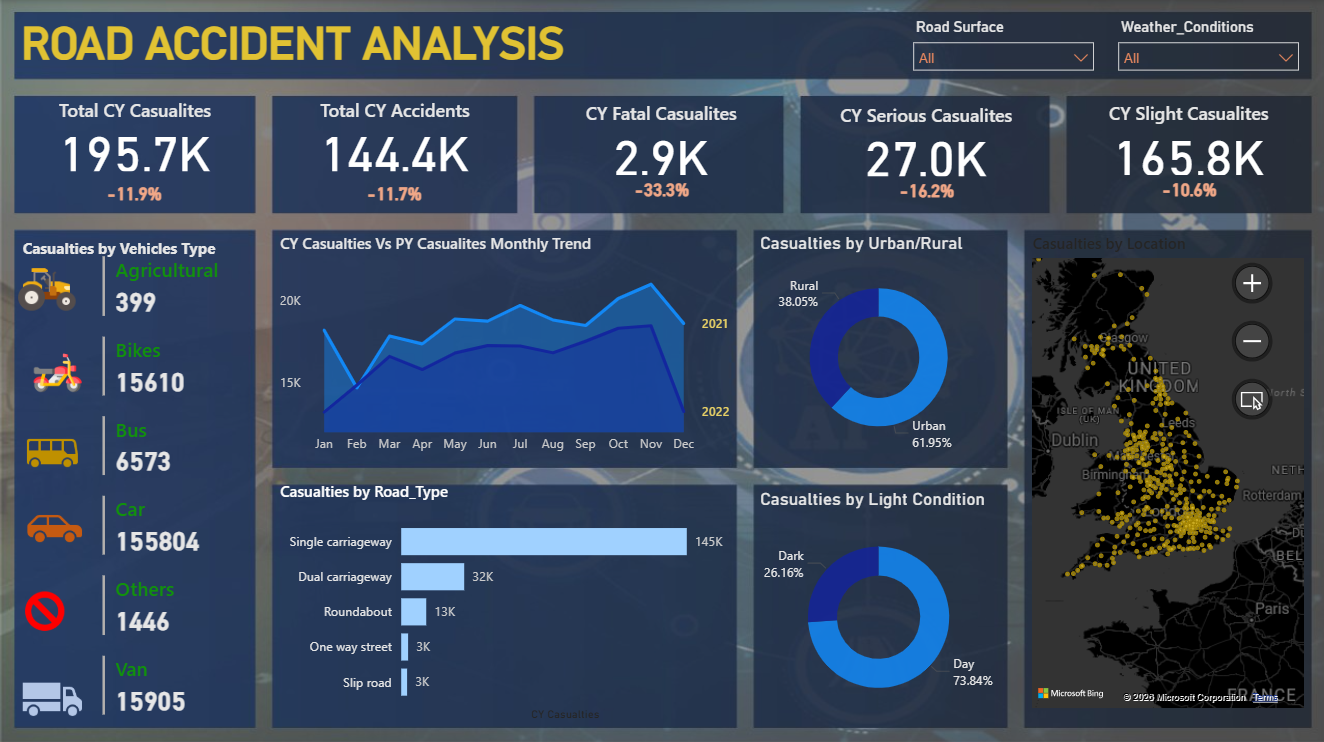

The dashboard page shown, as its layout file describes it:
{"tool":"powerbi","page":{"name":"Page 1","canvas":[1280,720],"ordinal":0},"visuals":[{"type":"group","id":"g1","title":"Group 1","box":[14.5,94.1,231.6,111],"z":0},{"type":"card","title":"Total CY Casualites","fields":{"Values":["Data (2).CY Casualties"]},"box":[14.5,94.1,231.6,76],"z":0,"group":"g1"},{"type":"card","title":"Total CY Accidents","fields":{"Values":["Data (2).CY Accidents"]},"box":[265.4,94.1,231.6,76],"z":0,"group":"g2"},{"type":"card","title":"CY  Slight Casualites ","fields":{"Values":["Data (2).CY Casualties"]},"box":[1031.9,97.4,231.6,76],"z":0,"group":"g5"},{"type":"card","title":"CY  Fatal Casualites ","fields":{"Values":["Data (2).CY Casualties"]},"box":[522.4,97.7,231.6,76],"z":0,"group":"g3"},{"type":"card","title":"CY  Serious Casualites ","fields":{"Values":["Data (2).CY Casualties"]},"box":[778,98.8,231.6,76],"z":0,"group":"g4"},{"type":"group","id":"g2","title":"Group 1","box":[265.4,94.1,231.6,111],"z":1000},{"type":"card","fields":{"Values":["Data (2).YOY Casualties"]},"box":[1101.4,166,92.9,35],"z":1000,"group":"g5"},{"type":"card","fields":{"Values":["Data (2).YOY Casualties"]},"box":[591.9,166.3,92.9,35],"z":1000,"group":"g3"},{"type":"card","fields":{"Values":["Data (2).YOY Casualties"]},"box":[847.5,167.4,92.9,35],"z":1000,"group":"g4"},{"type":"card","fields":{"Values":["Data (2).YOY Casualties"]},"box":[83.3,170.1,92.9,35],"z":1000,"group":"g1"},{"type":"card","fields":{"Values":["Data (2).YOY Accidents"]},"box":[334.2,170.1,92.9,35],"z":1000,"group":"g2"},{"type":"group","id":"g3","title":"Group 1","box":[522.4,97.7,231.6,103.8],"z":2000},{"type":"group","id":"g4","title":"Group 1","box":[778,98.8,231.9,102.9],"z":3000},{"type":"group","id":"g5","title":"Group 1","box":[1031.9,97.4,231.9,102.9],"z":4000},{"type":"textbox","box":[15.1,12.3,544.8,60.4],"z":5000},{"type":"multiRowCard","fields":{"Values":["Data (2).Vehicle_Type (groups)","Data (2).CY Casualties"]},"box":[94.7,242.9,152.3,477.5],"z":6000},{"type":"image","box":[15.1,242.9,59,72.7],"z":7000},{"type":"image","box":[15.1,336.2,79.6,46.7],"z":8000},{"type":"image","box":[15.1,410.3,70,53.5],"z":9000},{"type":"image","box":[12.3,481.6,82.3,57.6],"z":10000},{"type":"image","box":[0,565.4,86.4,48],"z":11000},{"type":"image","box":[16.5,643.6,67.2,63.1],"z":12000},{"type":"textbox","box":[17.3,224,229.3,36],"z":13000},{"type":"areaChart","title":"CY Casualties Vs PY Casualites Monthly Trend","fields":{"Category":["Calendar.Month"],"Y":["Sum(Data (2).Number_of_Casualties)"],"Series":["Calendar.Date.Variation.Date Hierarchy.Year"]},"box":[265.4,224.4,444,222],"z":14000},{"type":"donutChart","title":"Casualties by Urban/Rural","fields":{"Category":["Data (2).Urban_or_Rural_Area"],"Y":["Data (2).CY Casualties"]},"box":[728.7,224.4,238.9,222],"z":15000},{"type":"donutChart","title":"Casualties by Light Condition","fields":{"Y":["Data (2).CY Casualties"],"Category":["Data (2).Light_Conditions (groups)"]},"box":[728.7,471.7,238.9,229.2],"z":16000},{"type":"barChart","title":"Casualties by Road_Type ","fields":{"Category":["Data (2).Road_Type"],"Y":["Data (2).CY Casualties"]},"box":[265.4,463.3,444,237.7],"z":17000},{"type":"map","title":"Casualties by Location ","fields":{"Y":["Data (2).Latitude"],"X":["Data (2).Longitude"],"Category":["Data (2).Local_Authority_(District)"]},"box":[991.7,224.4,271.4,464.5],"z":18000},{"type":"slicer","fields":{"Values":["Data (2).Weather_Conditions (groups)"]},"box":[1069.3,12,194.7,60],"z":19000},{"type":"slicer","fields":{"Values":["Data (2).Road_Surface_Conditions (groups)"]},"box":[870.7,12,194.7,60],"z":20000}]}

Visuals, with their boxes in screenshot pixels (x1, y1, x2, y2), scaled from the page's 1280x720 canvas onto the 1324x742 screenshot:
"Group 1" group: [15,97,255,211]
"Total CY Casualites" card: [15,97,255,175]
"Total CY Accidents" card: [275,97,514,175]
"CY  Slight Casualites " card: [1067,100,1307,179]
"CY  Fatal Casualites " card: [540,101,780,179]
"CY  Serious Casualites " card: [805,102,1044,180]
"Group 1" group: [275,97,514,211]
card - Data (2).YOY Casualties: [1139,171,1235,207]
card - Data (2).YOY Casualties: [612,171,708,207]
card - Data (2).YOY Casualties: [877,173,973,209]
card - Data (2).YOY Casualties: [86,175,182,211]
card - Data (2).YOY Accidents: [346,175,442,211]
"Group 1" group: [540,101,780,208]
"Group 1" group: [805,102,1045,208]
"Group 1" group: [1067,100,1307,206]
textbox: [16,13,579,75]
multiRowCard - Data (2).Vehicle_Type (groups) x Data (2).CY Casualties: [98,250,255,741]
image: [16,250,77,325]
image: [16,346,98,395]
image: [16,423,88,478]
image: [13,496,98,556]
image: [0,583,89,632]
image: [17,663,87,728]
textbox: [18,231,255,268]
"CY Casualties Vs PY Casualites Monthly Trend" areaChart: [275,231,734,460]
"Casualties by Urban/Rural" donutChart: [754,231,1001,460]
"Casualties by Light Condition" donutChart: [754,486,1001,722]
"Casualties by Road_Type " barChart: [275,477,734,722]
"Casualties by Location " map: [1026,231,1307,710]
slicer - Data (2).Weather_Conditions (groups): [1106,12,1307,74]
slicer - Data (2).Road_Surface_Conditions (groups): [901,12,1102,74]
